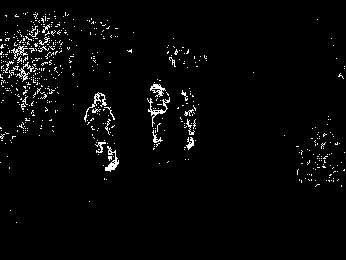person: (84, 90, 119, 174), (146, 79, 171, 153), (177, 86, 198, 153)
